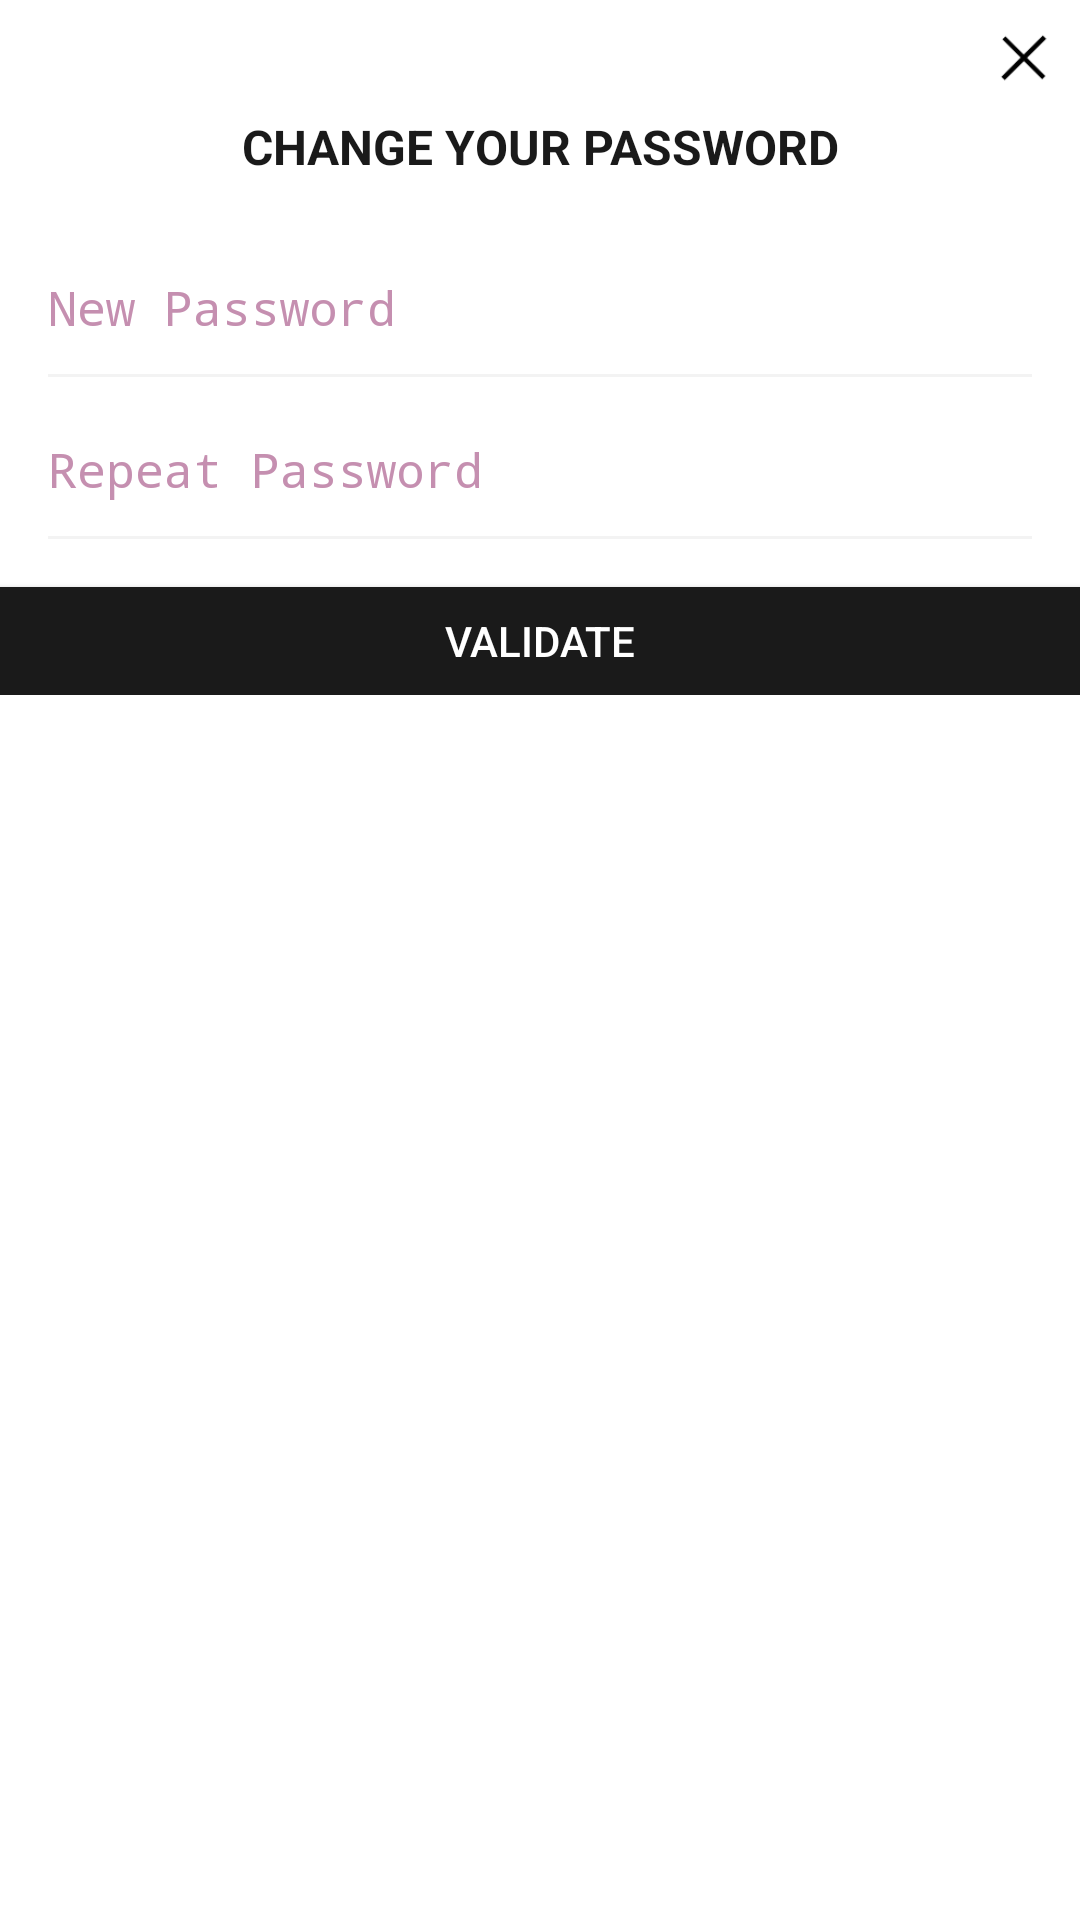

Named icons in this screenshot (1080x1920) and their centers, [x,y]:
close: [1024,58]
